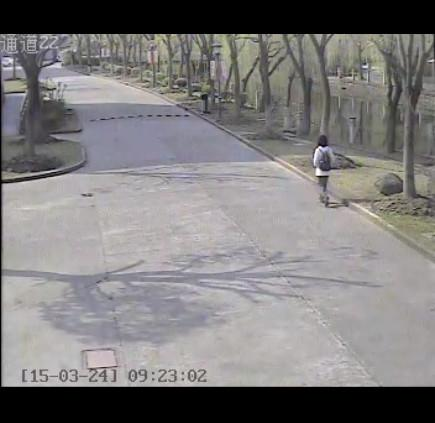person: (309, 127, 338, 211)
